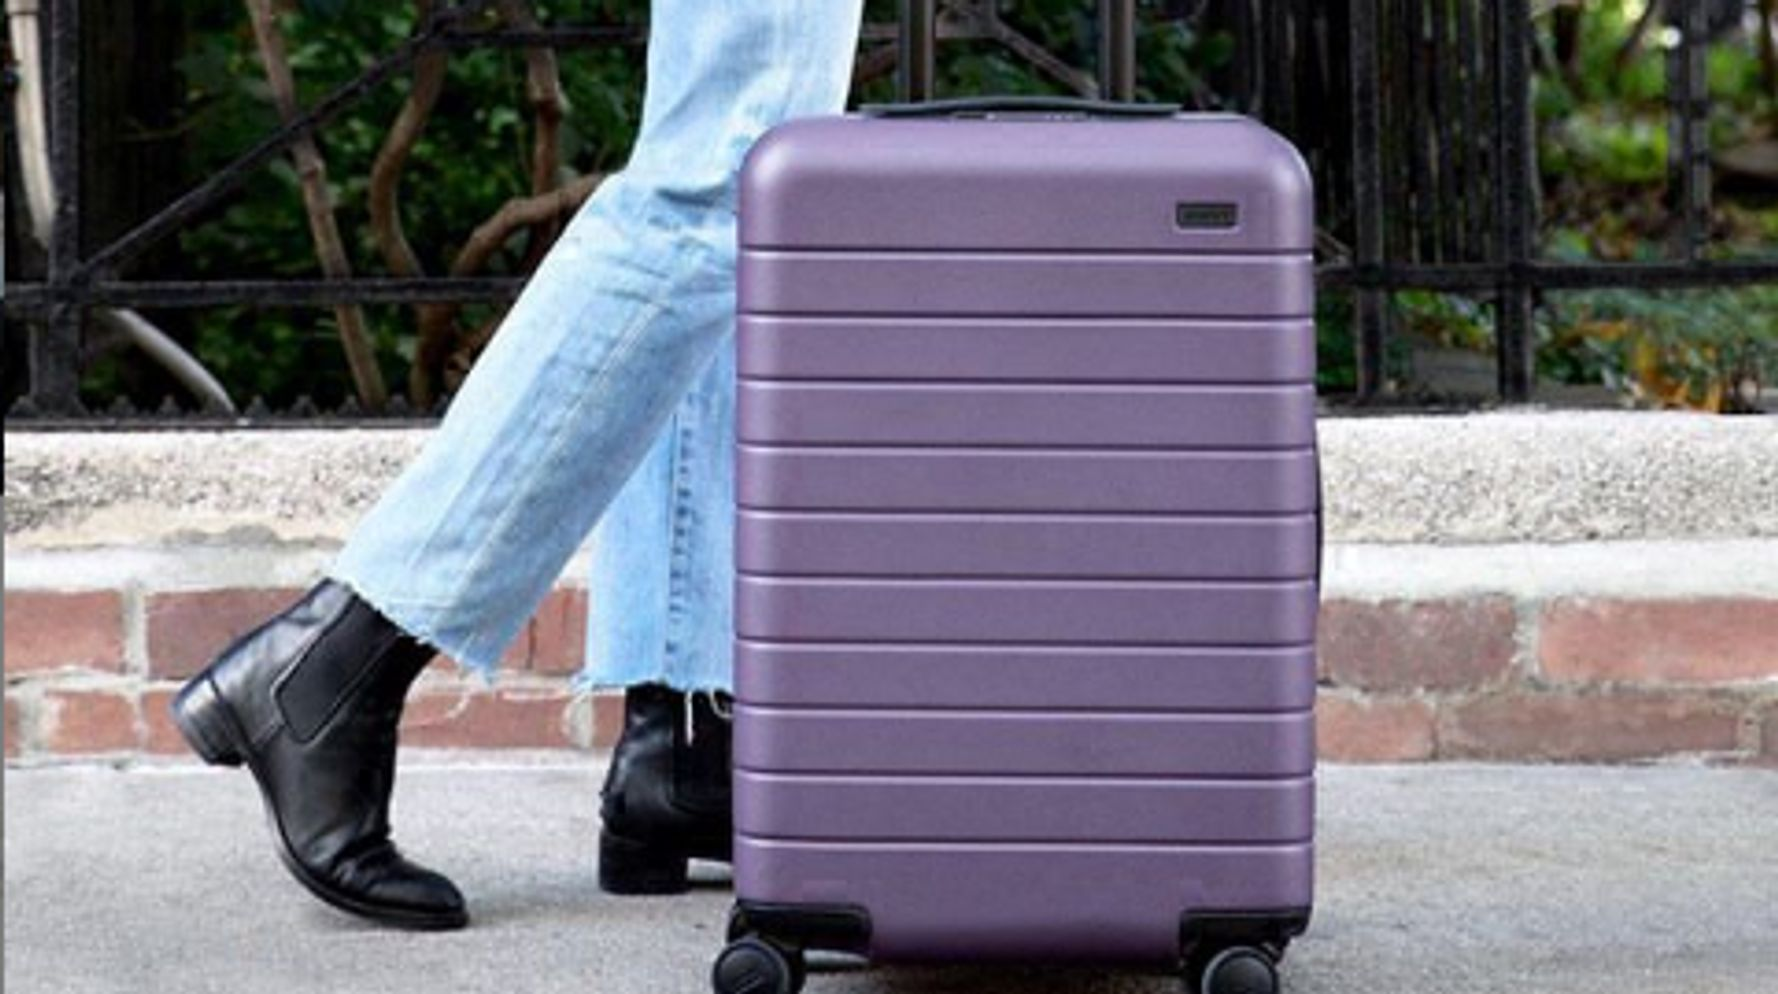luggage: (720, 82, 1330, 994)
